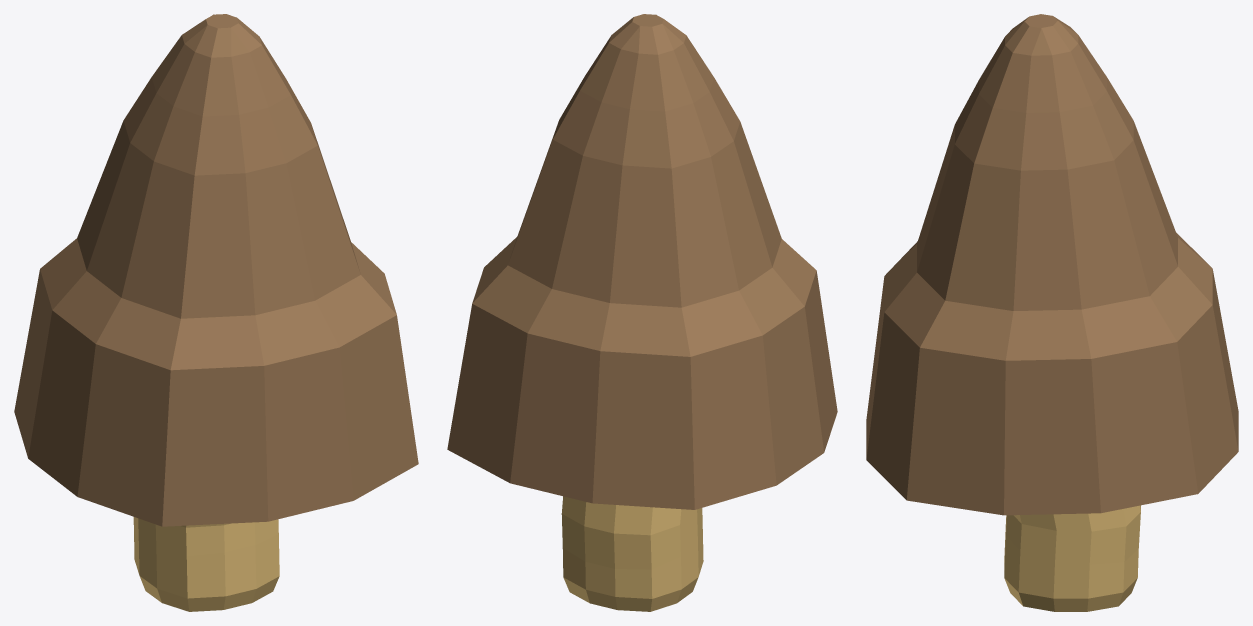
Rendered from Mushroom3.4.fbx.
3 views of the same model, side by side, from view 1: azimuth 30°, elevation 25°; view 2: azimuth 150°, elevation 25°; view 3: azimuth 270°, elevation 25° (orthographic). The views are drawn at different scales.
Visible parts, largest first — view 1: Mushroom3.4; view 2: Mushroom3.4; view 3: Mushroom3.4.
Part boxes in pixels (<box>): Mushroom3.4: <box>14,14,418,611</box>; Mushroom3.4: <box>447,14,837,611</box>; Mushroom3.4: <box>866,14,1238,611</box>.
Bounding box in the file's own units: 127 × 214 × 127.
